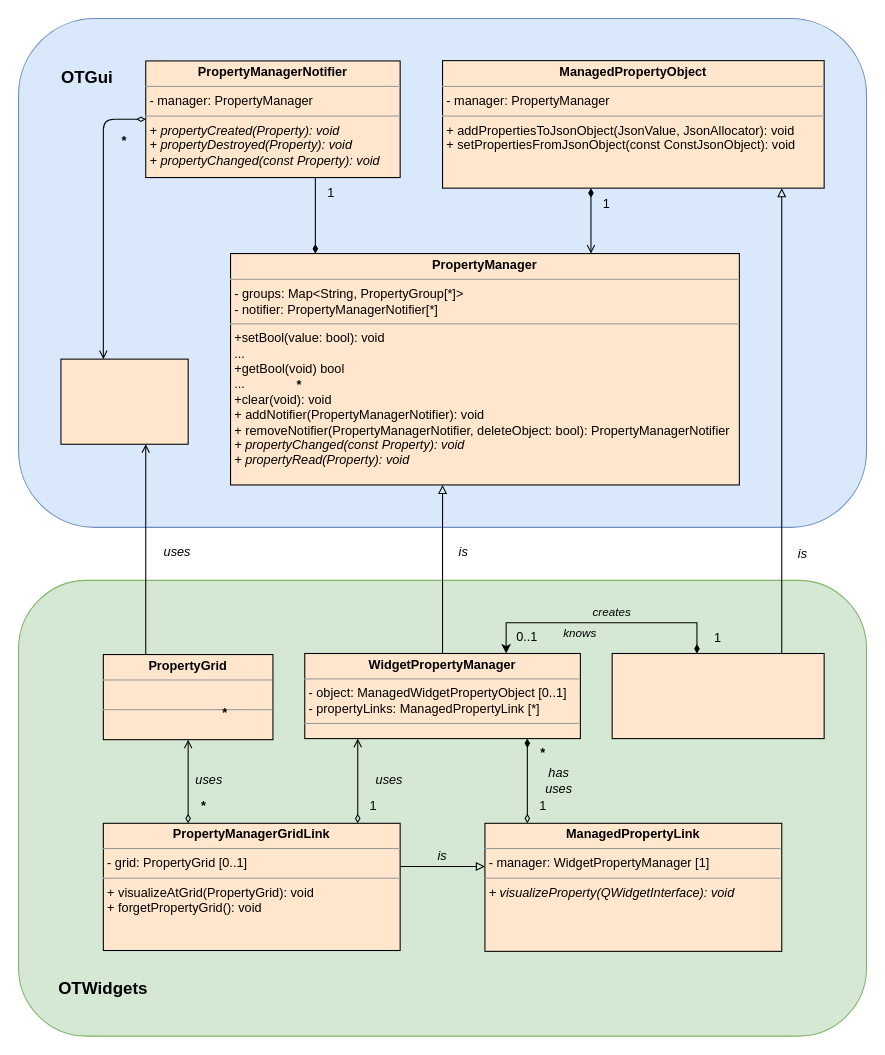
Image size: 885x1055. Some labels were removed from this diagram. Here are the shapes that lost their labels. From the top down, the centre of each, then its label:
At (x=124, y=401): "Property".
At (x=717, y=695): "ManagedWidgetPropertyObject".
